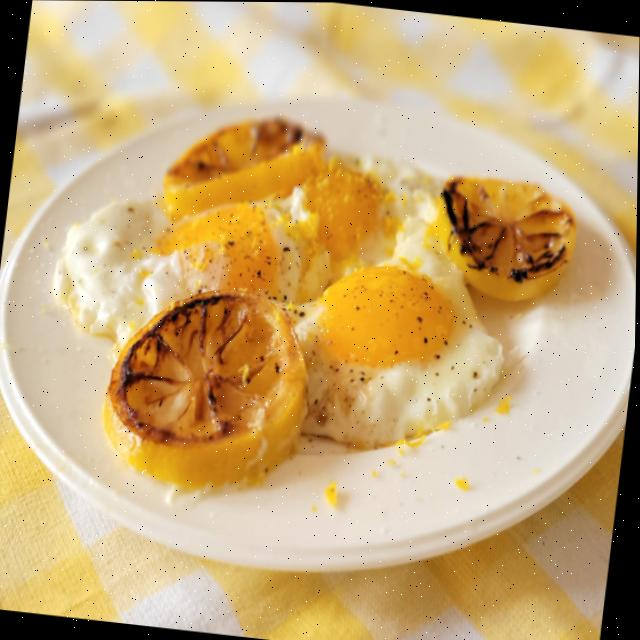Egg: (56, 157, 502, 446)
